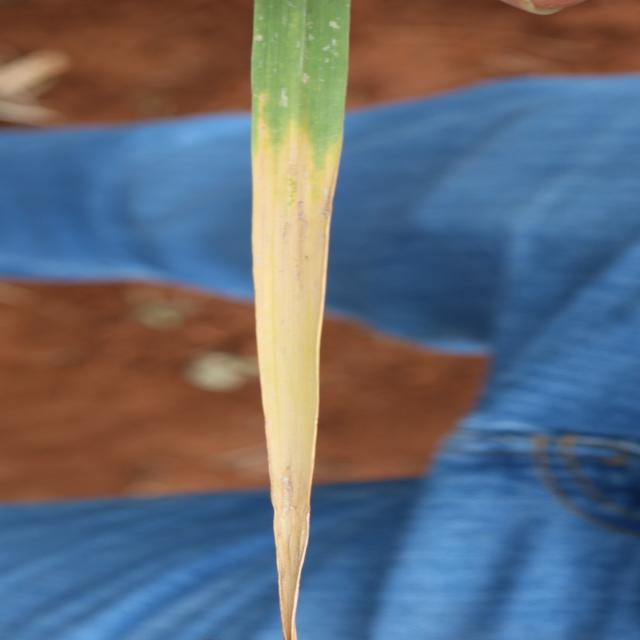Septoria: (248, 1, 351, 638)
